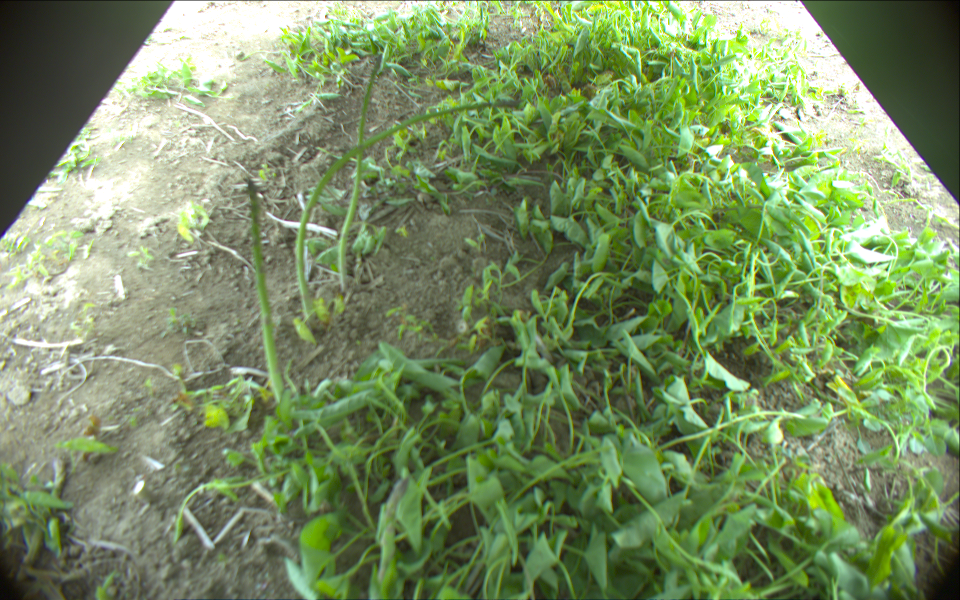aspa: (294, 98, 521, 324), (338, 55, 383, 295), (245, 179, 283, 400), (379, 479, 410, 582), (48, 456, 67, 556)
